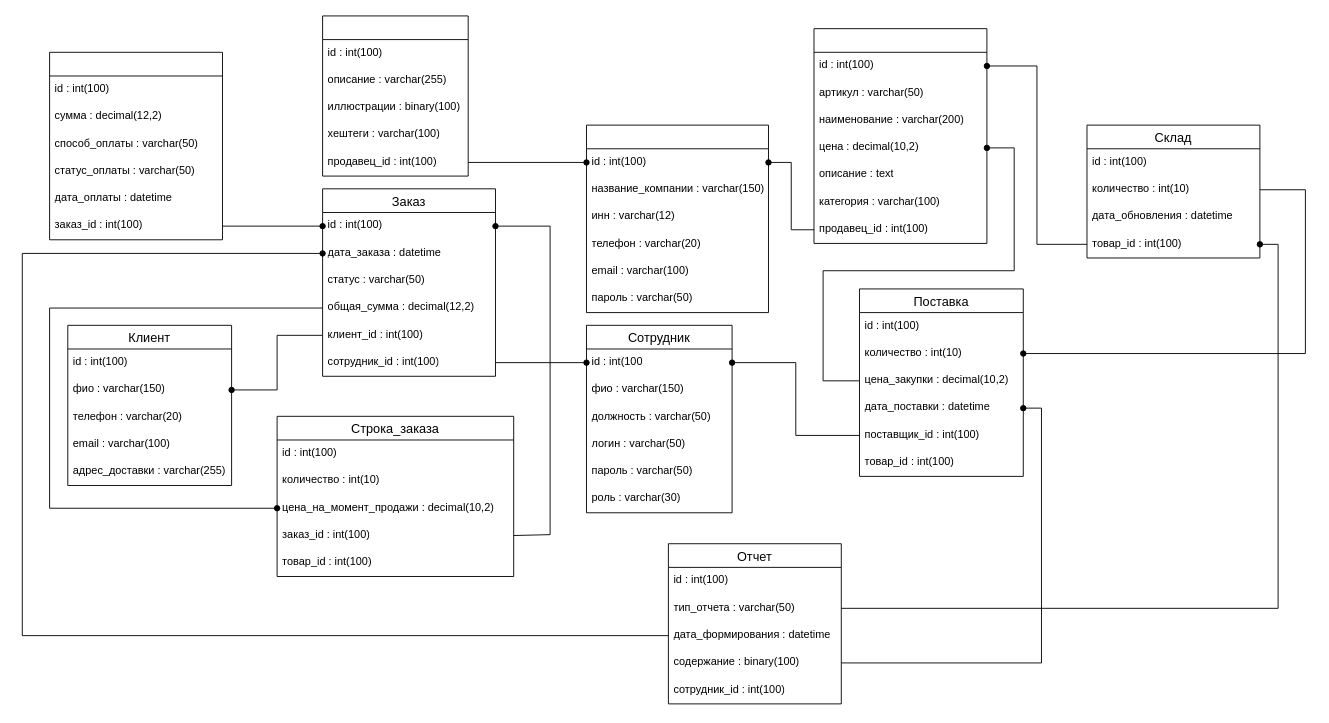
Some shapes in this 1329 by 723 pixel diagram are drawn without their labels. The box of each missing label's shape, as (x1, y1, x2, y2) in pixels:
Оплата: (49, 51, 222, 240)
Продавец: (586, 124, 768, 313)
Профиль_продавца: (322, 15, 468, 176)
Товар: (813, 28, 987, 243)
